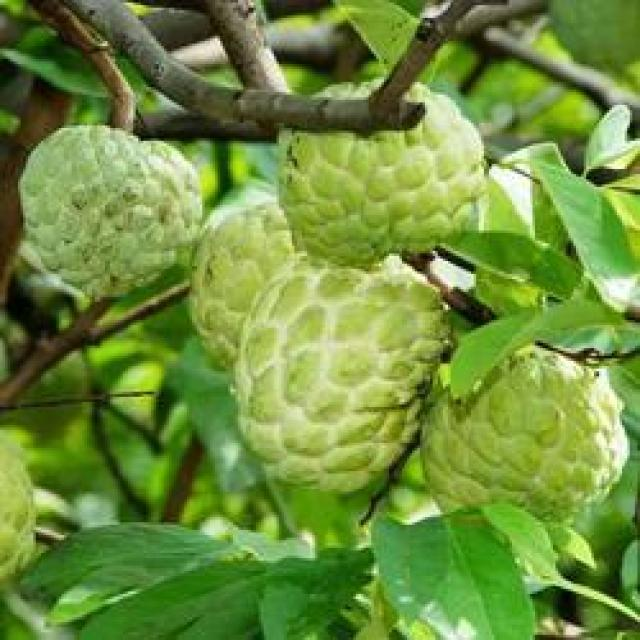apple: (238, 248, 448, 486), (266, 79, 504, 279), (425, 320, 637, 530), (23, 113, 207, 300)
